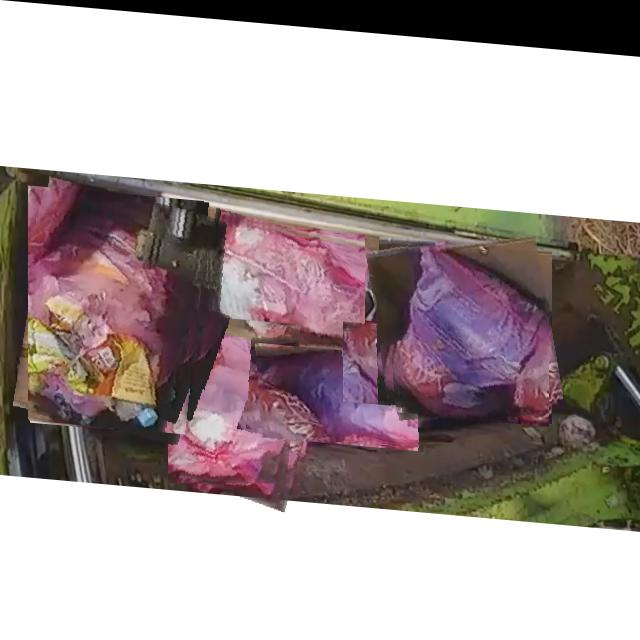other_trashbag: (29, 191, 204, 424), (392, 238, 549, 410), (168, 314, 294, 481), (209, 216, 364, 340), (258, 345, 418, 438), (344, 317, 435, 400)
